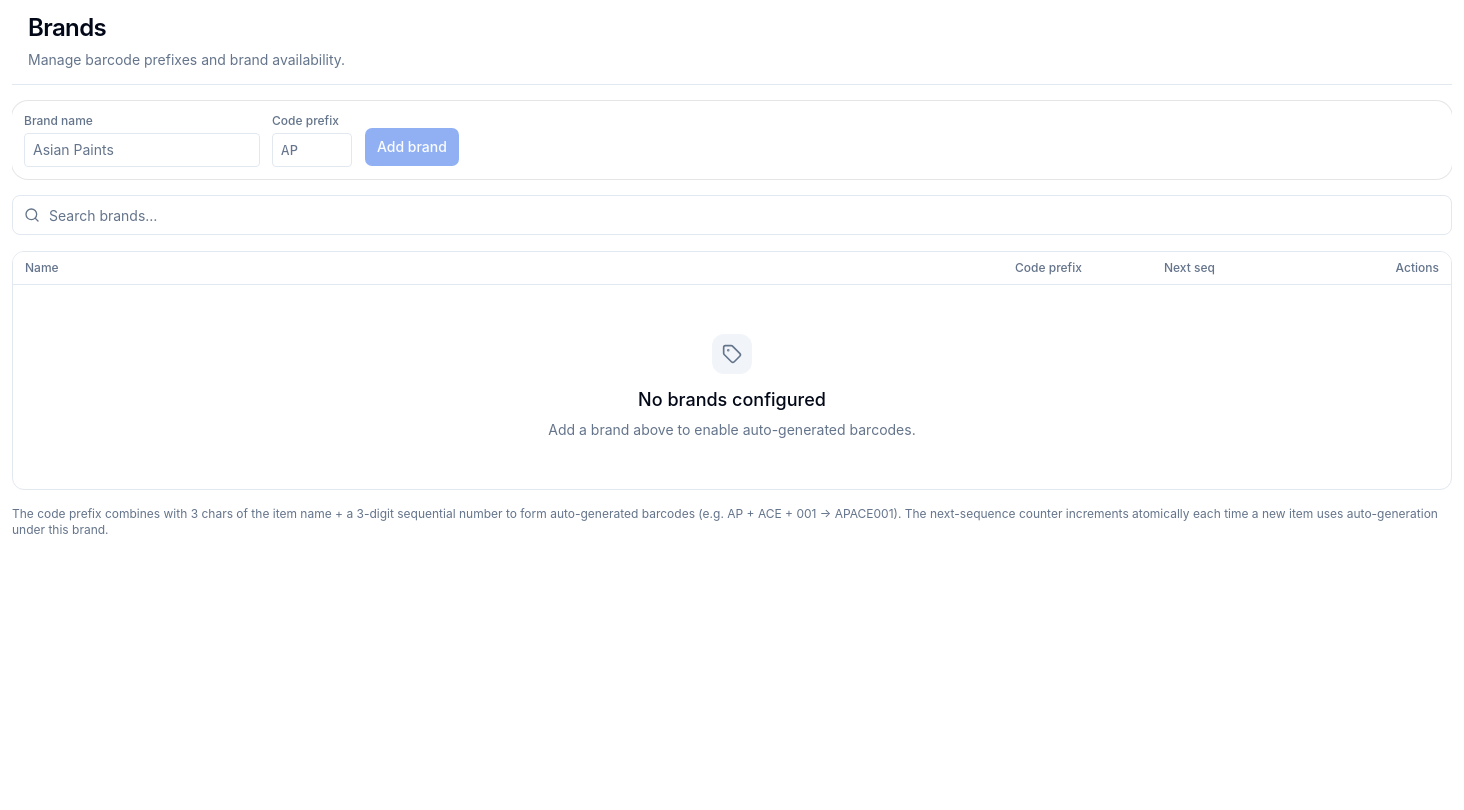
Test: UI state edge cases › brand success message appears after add
Type "Nerolac" into the field labelled "Brand name" at (142, 150), box [24,133,260,167]
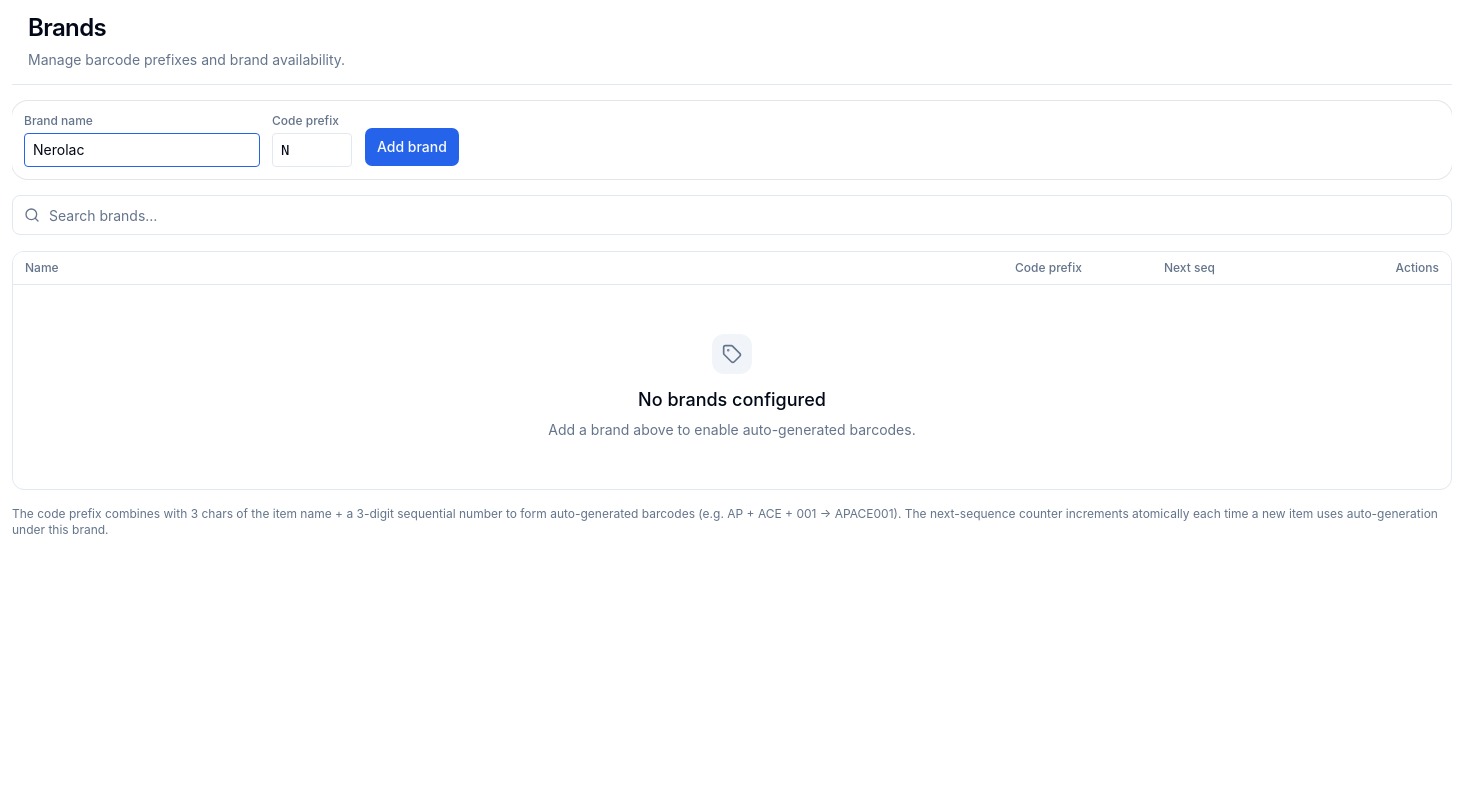
Type "NR" into the field labelled "Code prefix" at (312, 150), box [272,133,352,167]
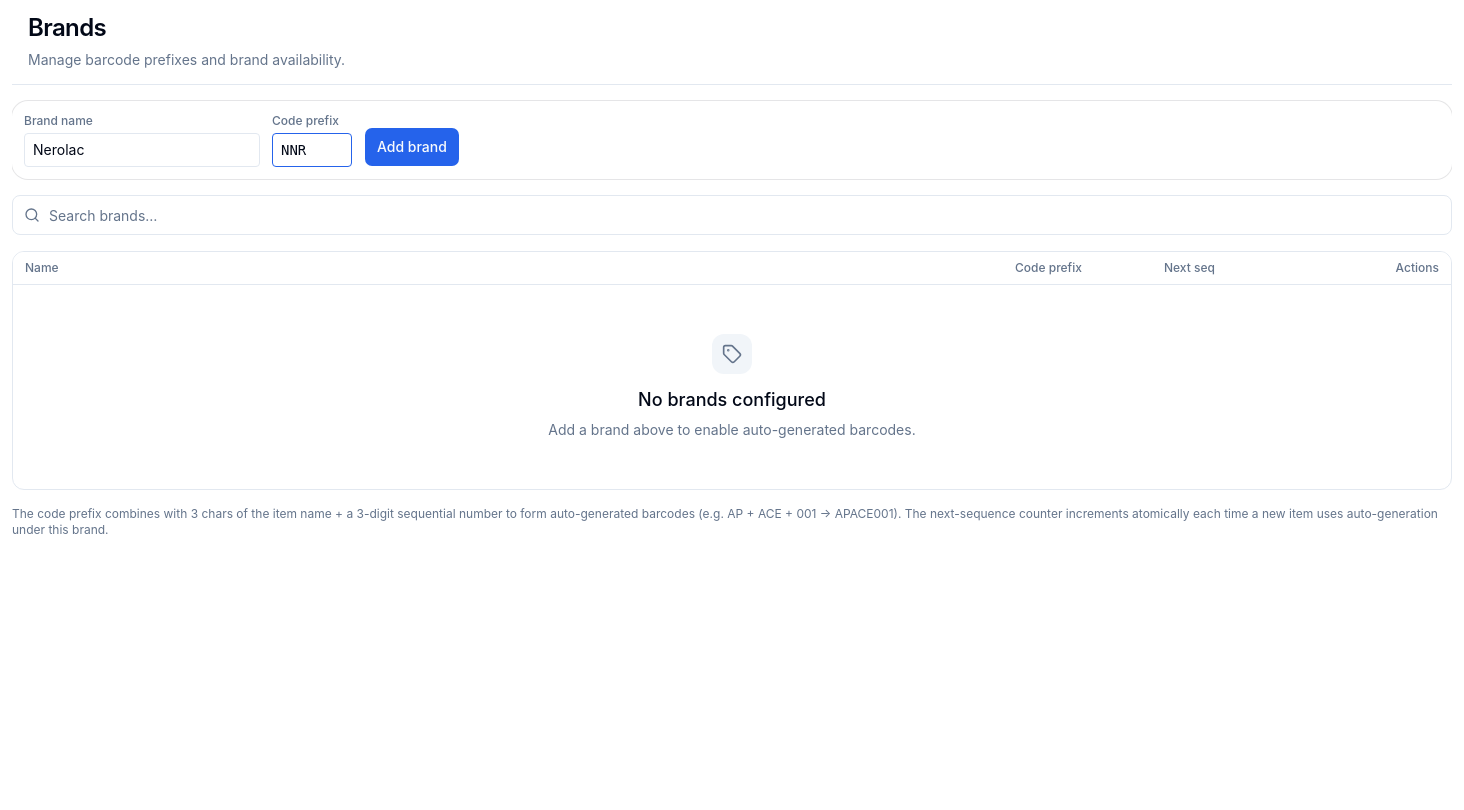
Click the button "Add brand" at (412, 147), box [364,127,460,167]
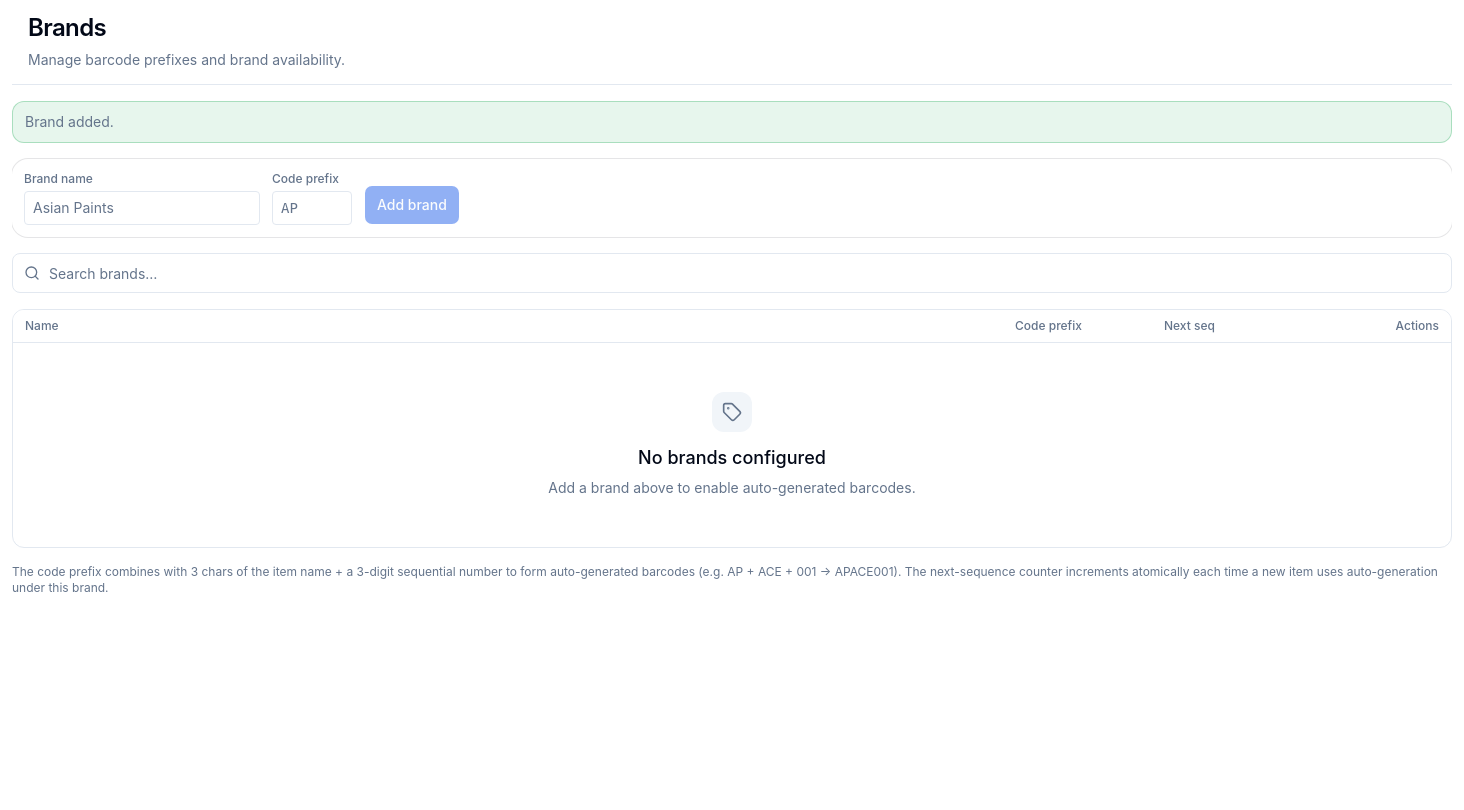
Now the text "Brand added." is shown, box [25,113,114,130]
